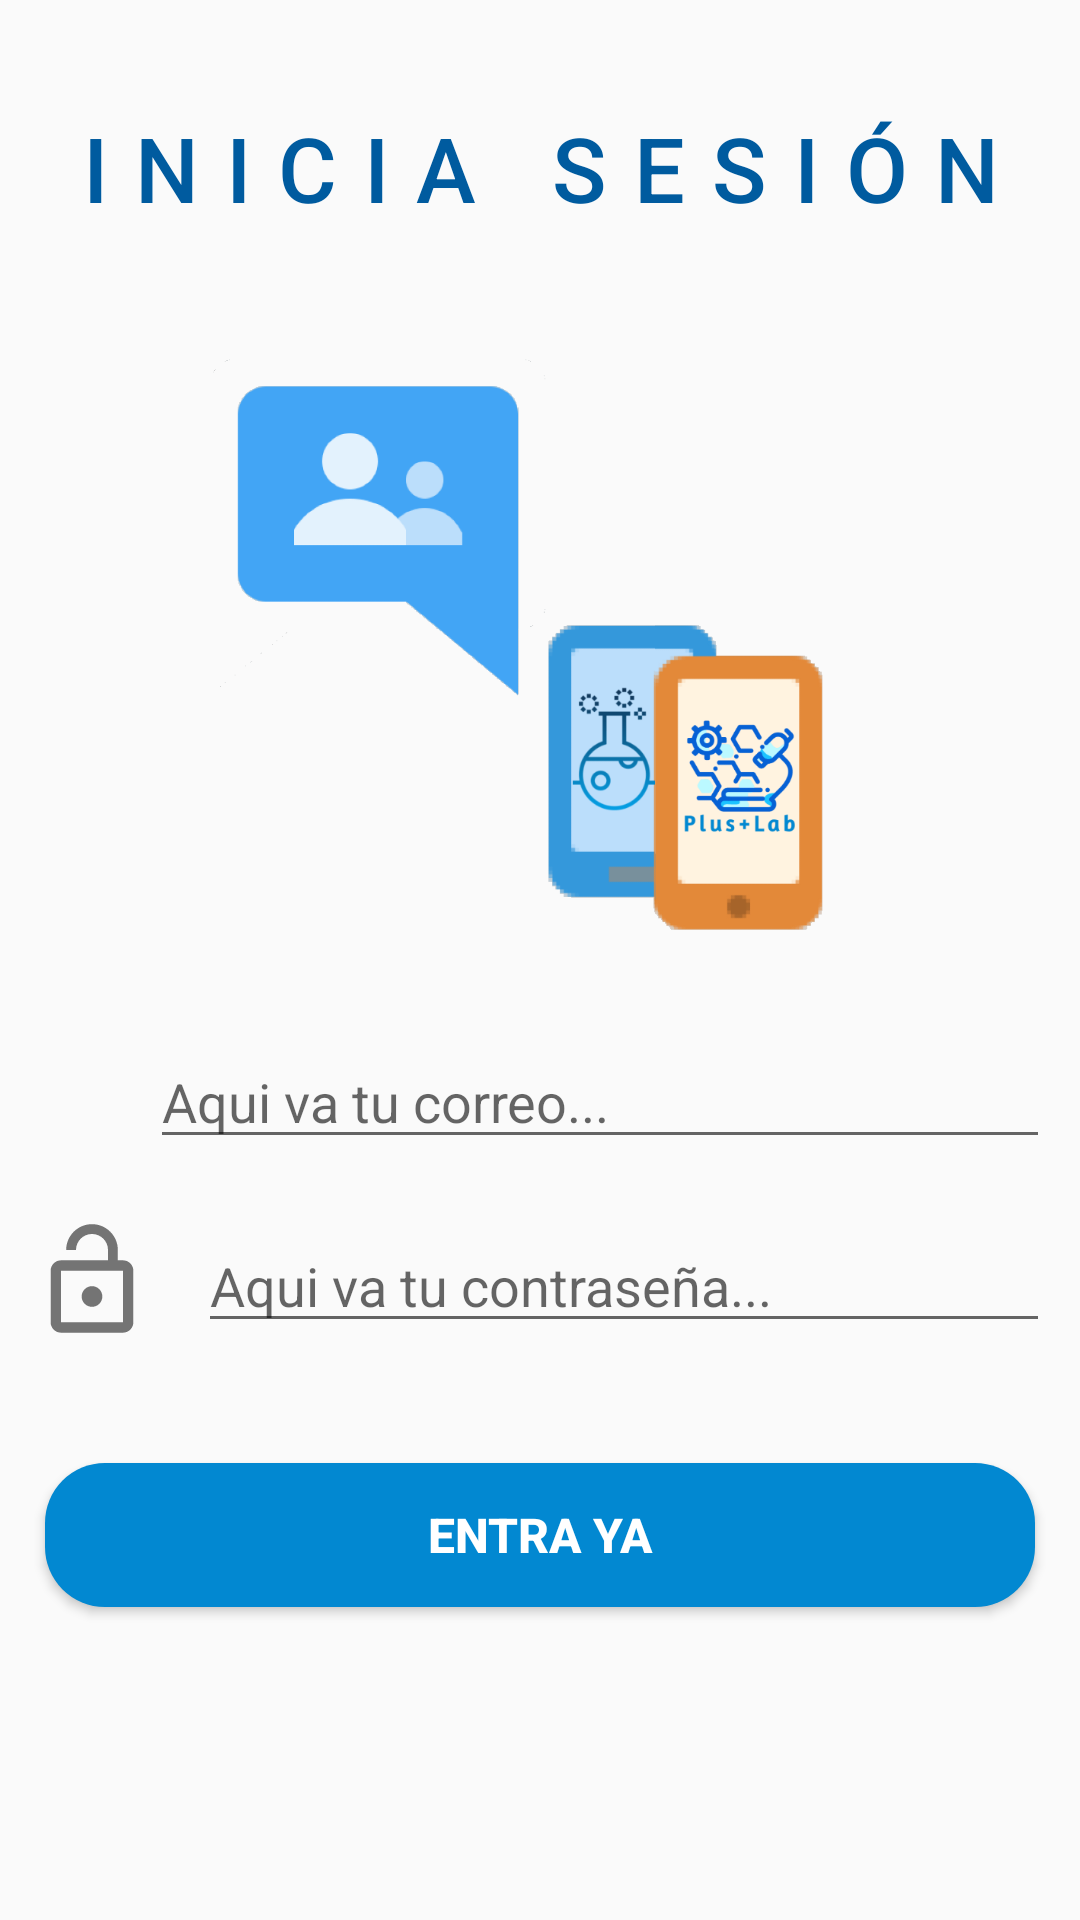

Where icons sit on this 1080*1920 app screen, as Rect(x1, y1, x2, y2):
password: Rect(50, 1224, 134, 1333)
